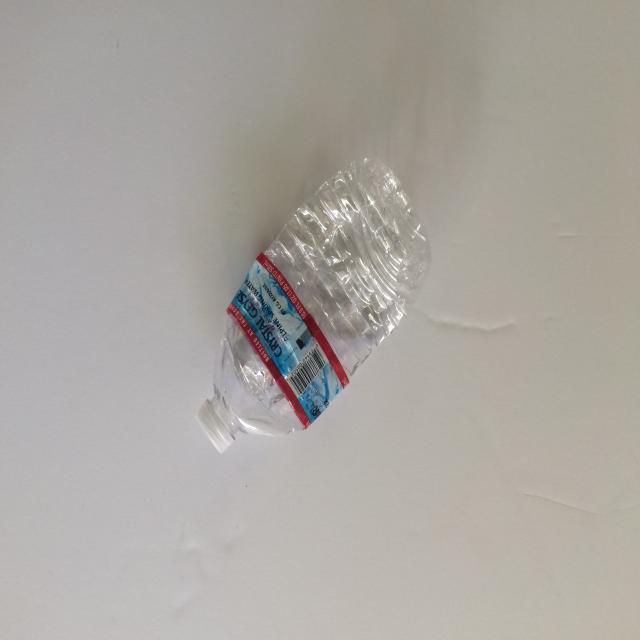plastic: (195, 155, 431, 454)
